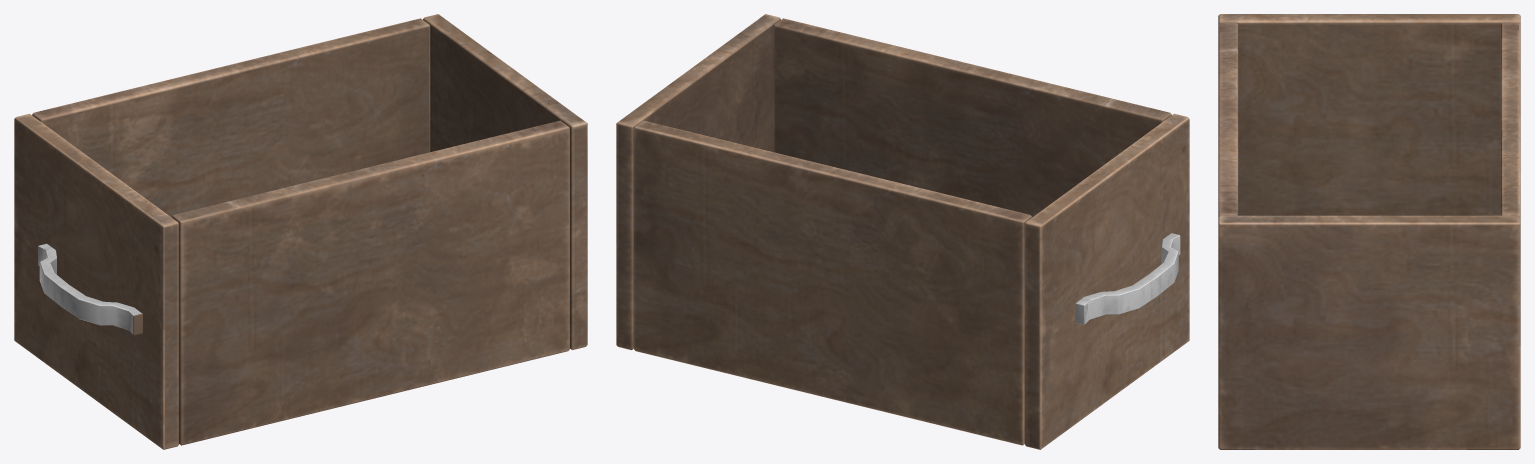
The model's file is SM_Middle_Table_v3.fbx.
The picture shows the model from 3 angles, left to right: view 1: azimuth 30°, elevation 25°; view 2: azimuth 150°, elevation 25°; view 3: azimuth 270°, elevation 25°; orthographic projection.
Parts seen in each view (by area): view 1: SM_Middle_Table_v3_LOD0; view 2: SM_Middle_Table_v3_LOD0; view 3: SM_Middle_Table_v3_LOD0.
Boxes of the visible parts, bbox=[...] form: SM_Middle_Table_v3_LOD0: bbox=[14, 14, 587, 449]; SM_Middle_Table_v3_LOD0: bbox=[616, 14, 1189, 449]; SM_Middle_Table_v3_LOD0: bbox=[1218, 14, 1520, 449].
Bounding box in the file's own units: 42.08 × 23.65 × 19.62.
1 material, 1 textured.
